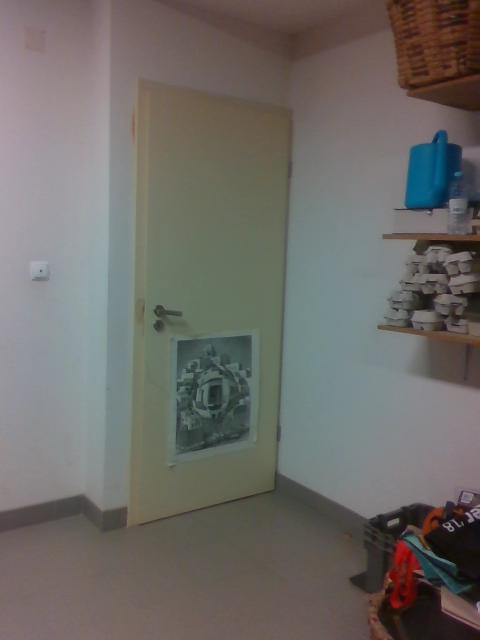closed_door: (123, 79, 292, 530)
